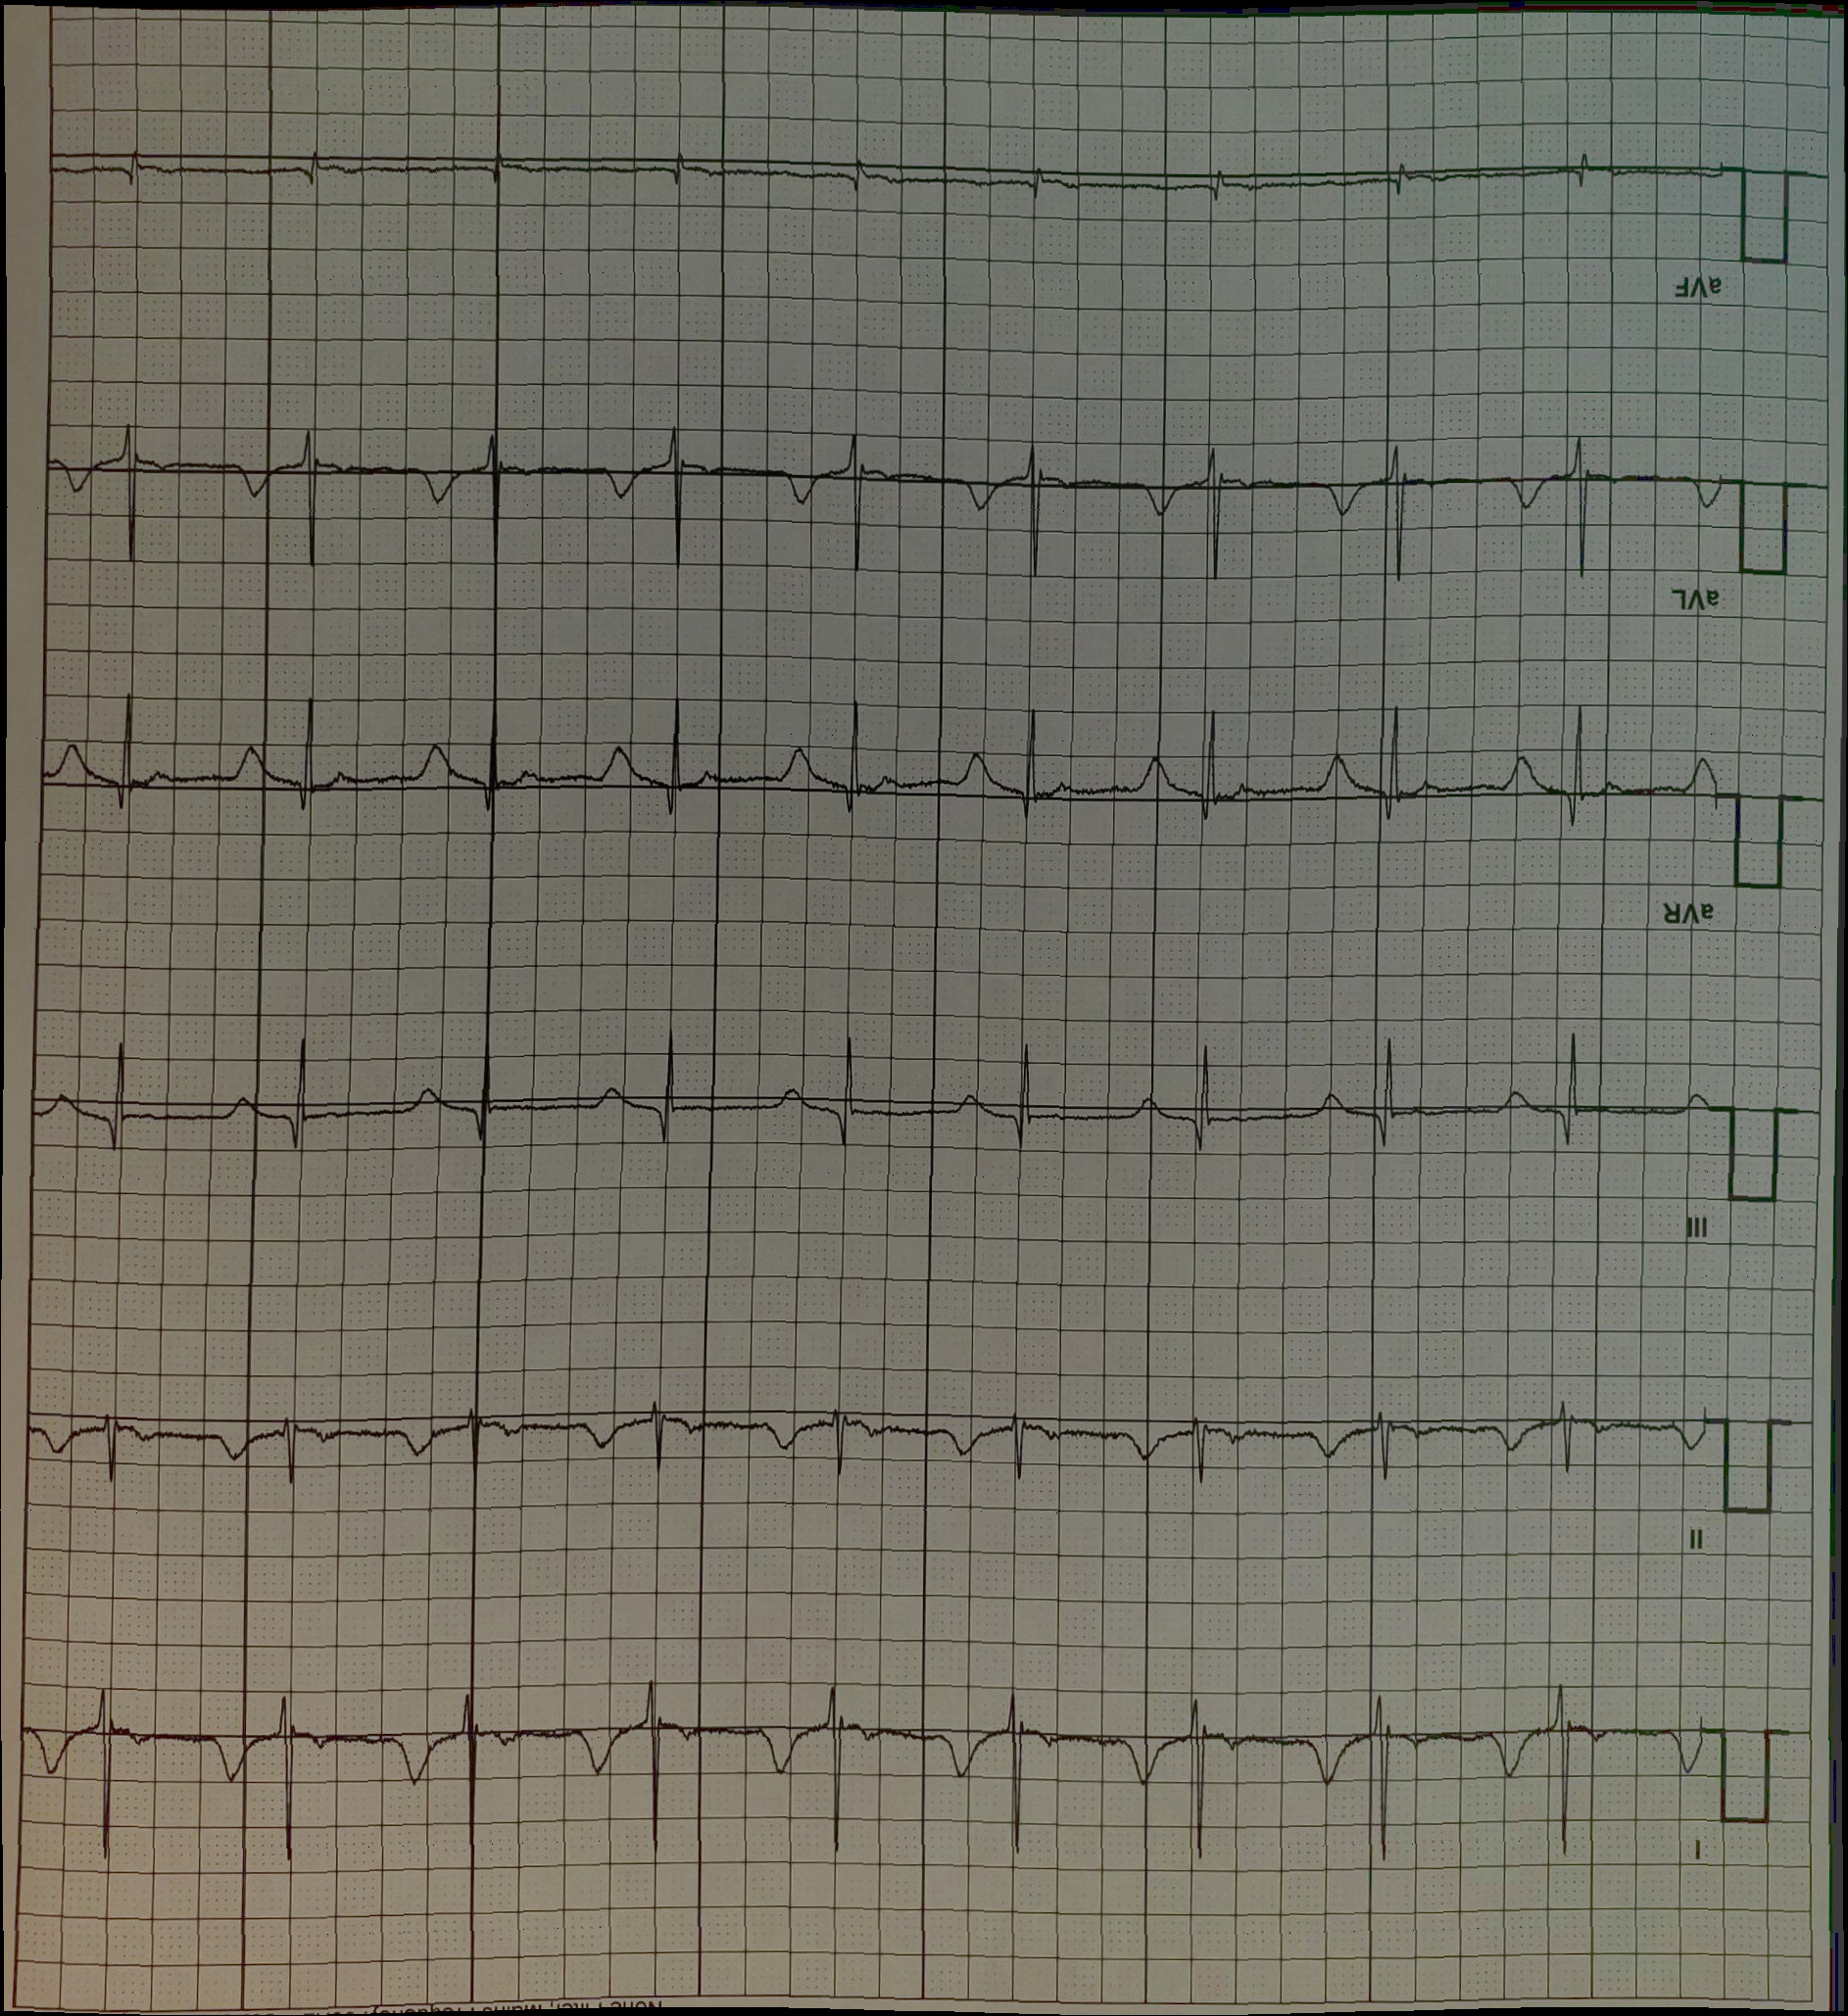Lead_I: (1049, 1667, 1722, 1897)
Lead_III: (1144, 1006, 1734, 1264)
Lead_II_ext: (28, 1372, 1729, 1572)
Lead_aVF: (1152, 84, 1739, 316)
Lead_aVL: (1154, 386, 1739, 641)
Lead_aVR: (1152, 681, 1730, 943)
